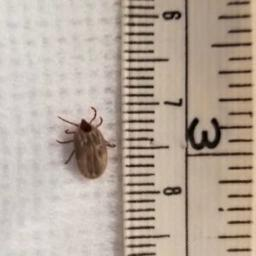Rhipicephalus sanguineus: (54, 112, 115, 179)
